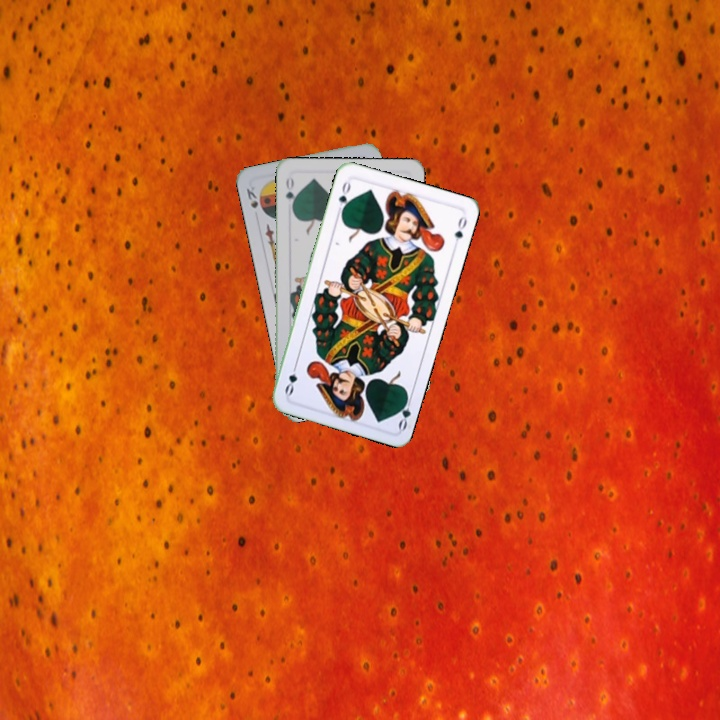GO: (393, 391, 415, 432), (334, 177, 353, 217), (281, 173, 299, 213)
SK: (242, 182, 260, 211)
